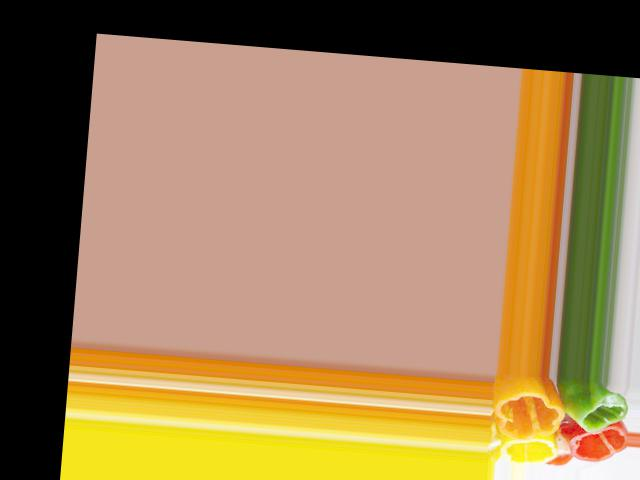bell_pepper: (567, 424, 625, 466)
